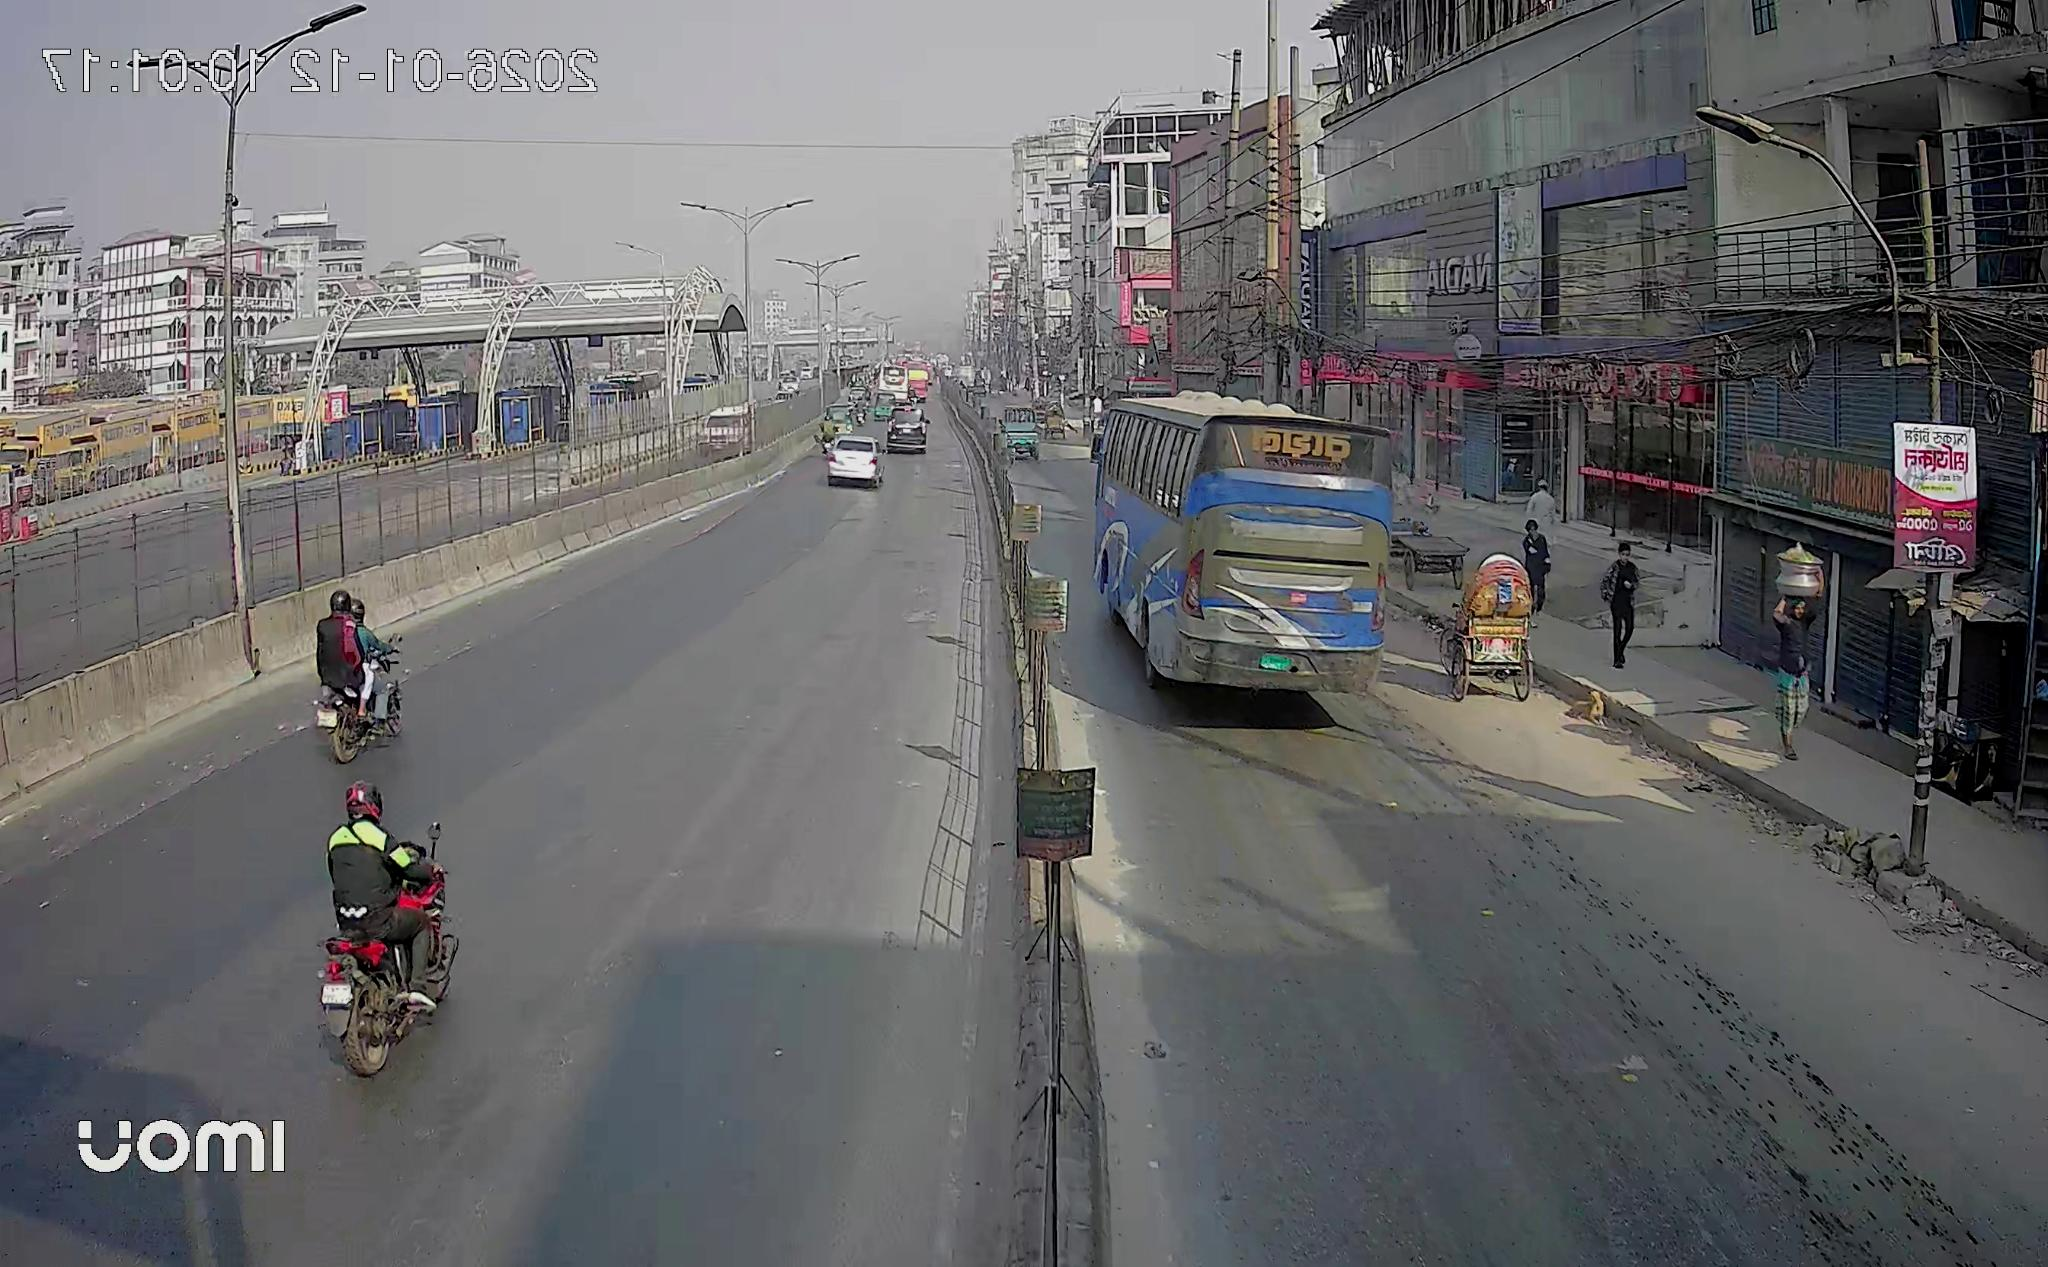Bus: (1088, 392, 1394, 693)
Cycle Rickshaw: (1439, 554, 1535, 699)
Motorcycle: (320, 781, 459, 1075), (316, 590, 401, 762)
Private-Sedan Car: (827, 435, 882, 489)
